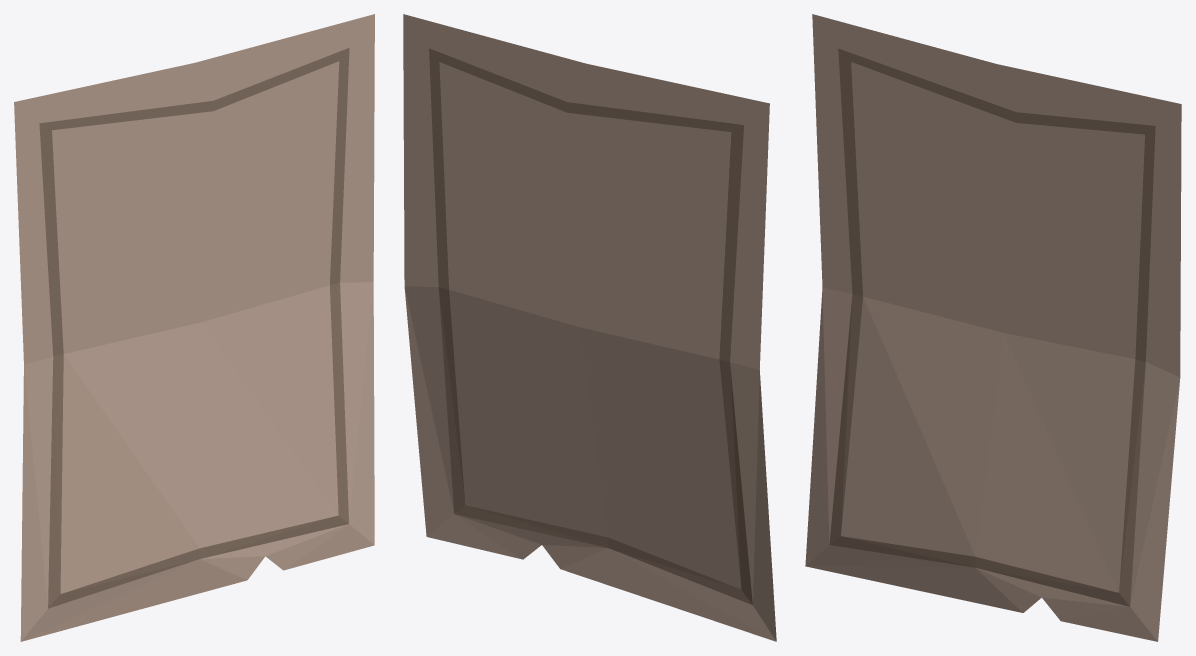
Rendered from SFHW_Paper_012.fbx.
3 renders of one model, left to right at view 1: azimuth 30°, elevation 25°; view 2: azimuth 150°, elevation 25°; view 3: azimuth 330°, elevation 25°, orthographic. The views are drawn at different scales.
Visible parts, largest first — view 1: SFHW_Paper_012; view 2: SFHW_Paper_012; view 3: SFHW_Paper_012.
Boxes of the visible parts, box(x1,y1,x2,y2) form: SFHW_Paper_012: box(14, 14, 374, 641); SFHW_Paper_012: box(403, 14, 776, 641); SFHW_Paper_012: box(805, 14, 1181, 641).
Size of the model in its own units: 19.26 by 27.28 by 1.26.
